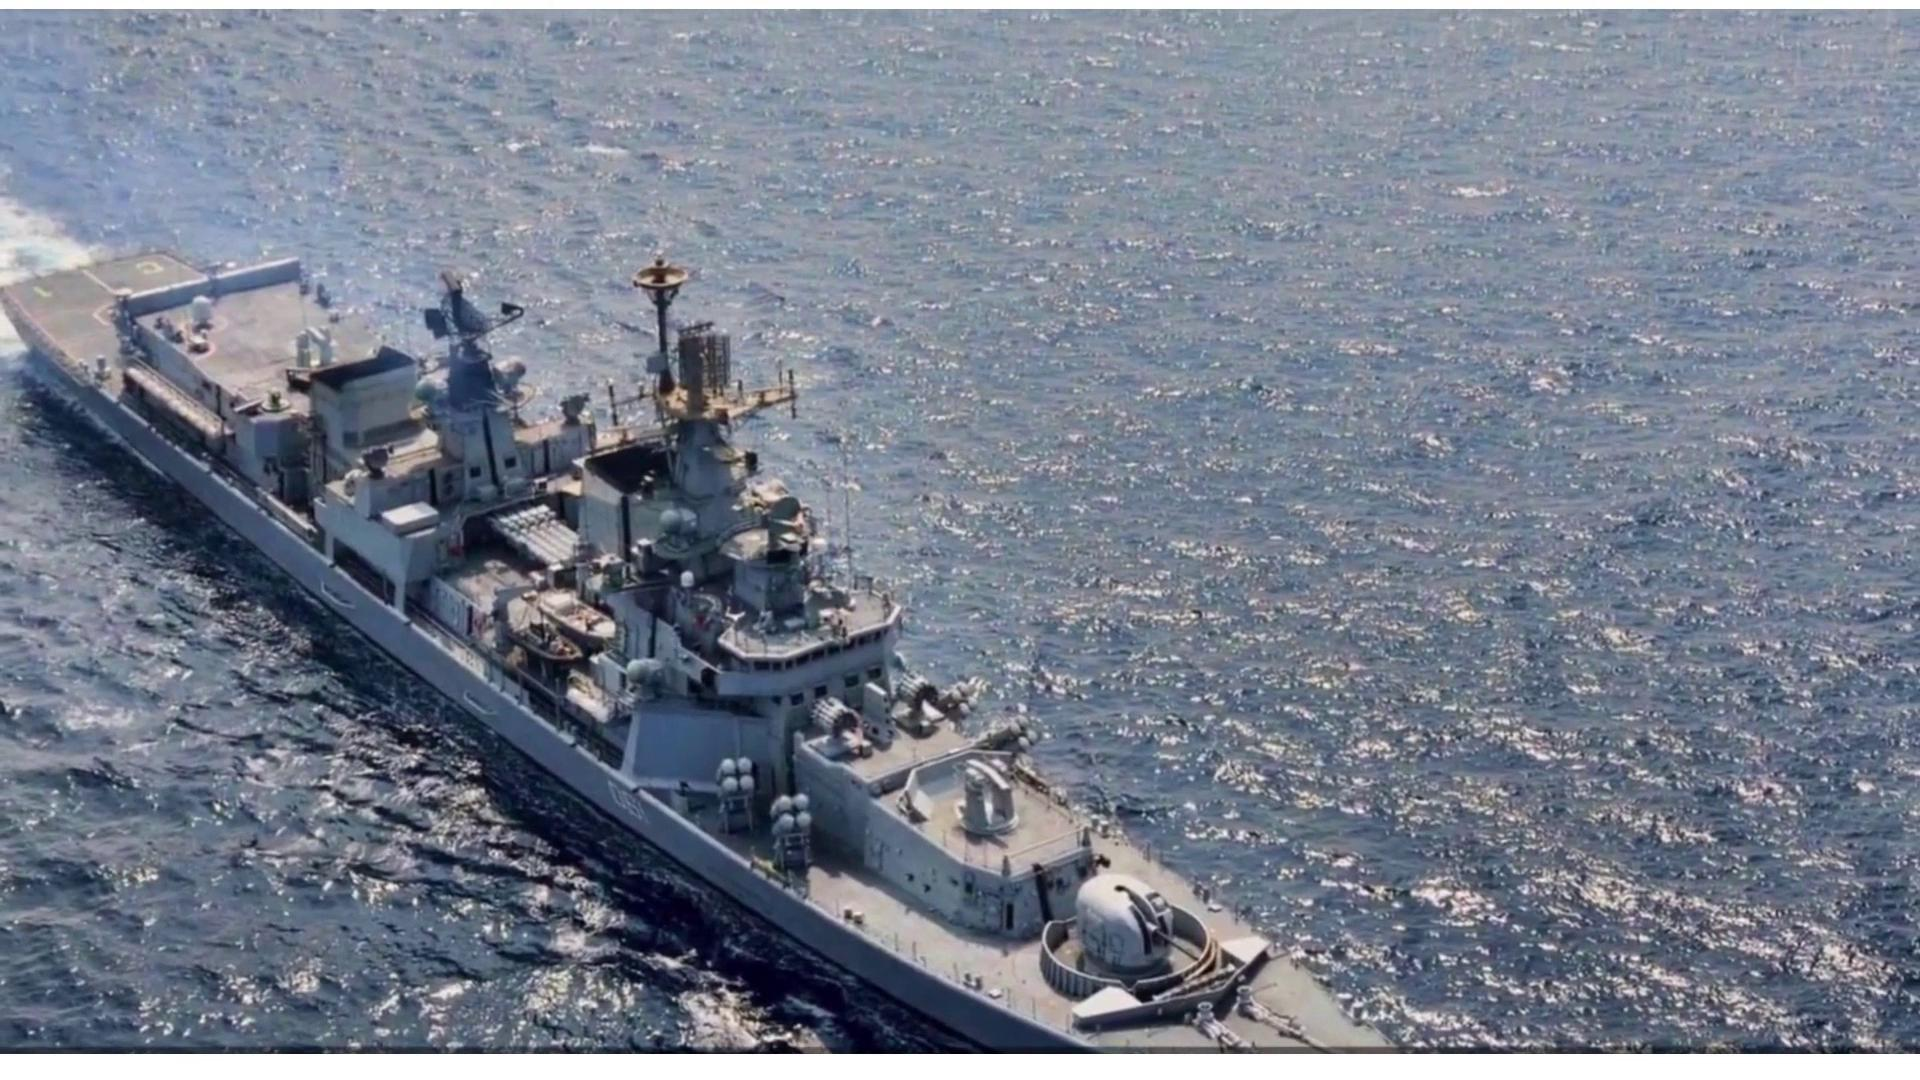OCR: (588, 766, 665, 836)
